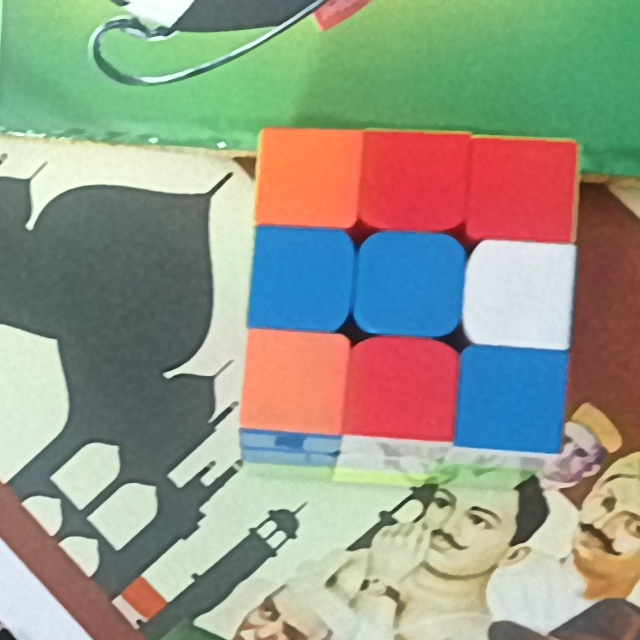tile: (477, 142, 567, 238), (469, 355, 561, 445), (358, 346, 450, 435), (368, 134, 458, 223), (476, 253, 567, 340), (260, 234, 344, 324), (264, 132, 352, 217), (365, 244, 453, 328), (251, 336, 333, 425)
